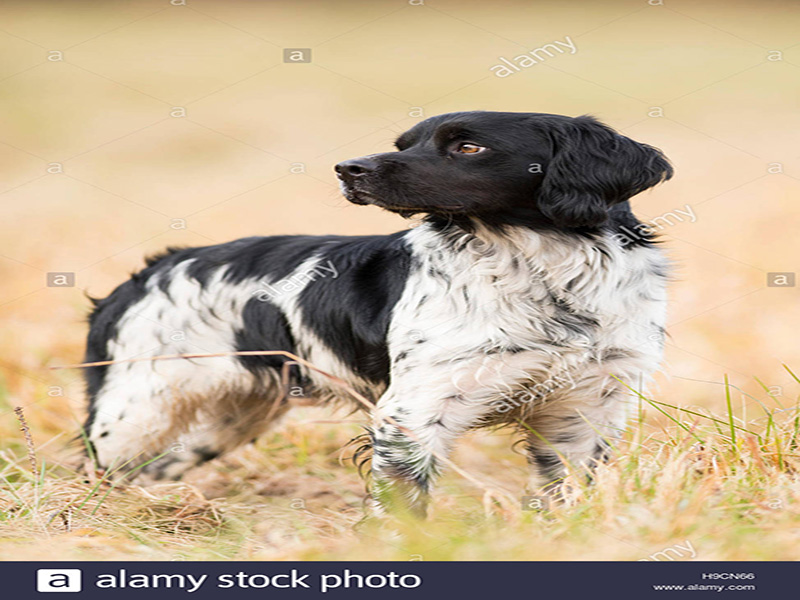cane da caccia: (104, 100, 661, 508)
